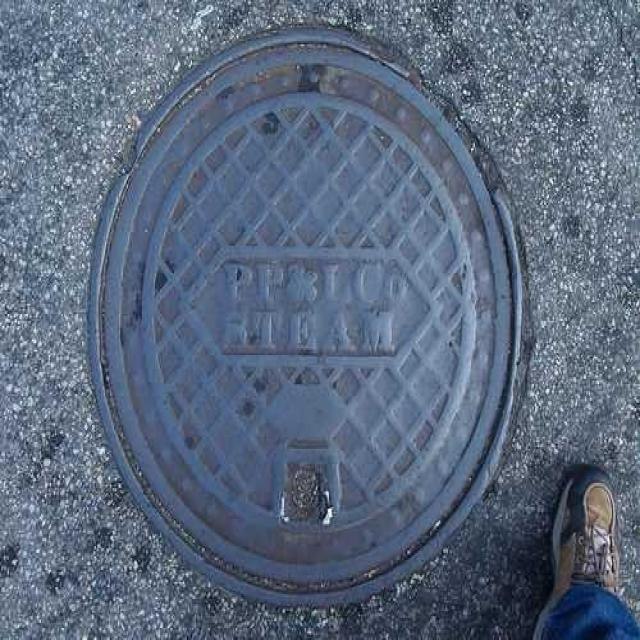manhole: (86, 27, 532, 609)
